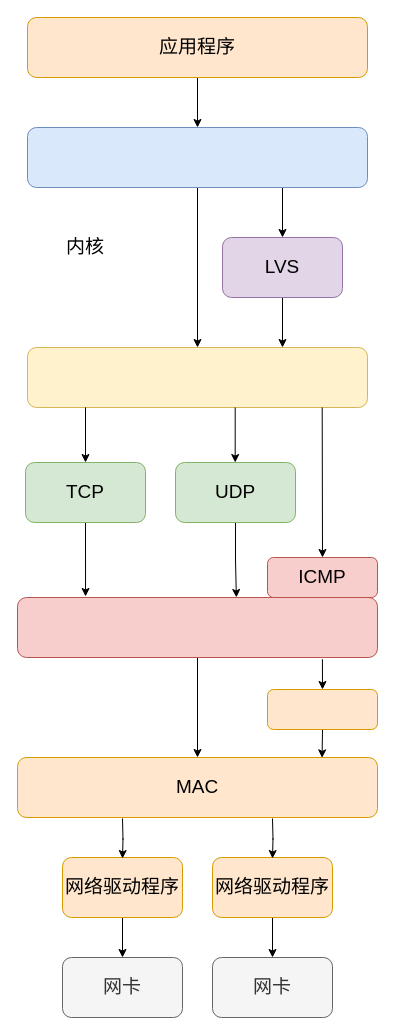
This 395x1035 diagram has some shape labels left out. Here are the shapes that lost their labels. From the top down, the centre of each, then its label:
(x=197, y=157): 系统调用
(x=197, y=377): Socket
(x=197, y=627): IP
(x=322, y=709): ARP
